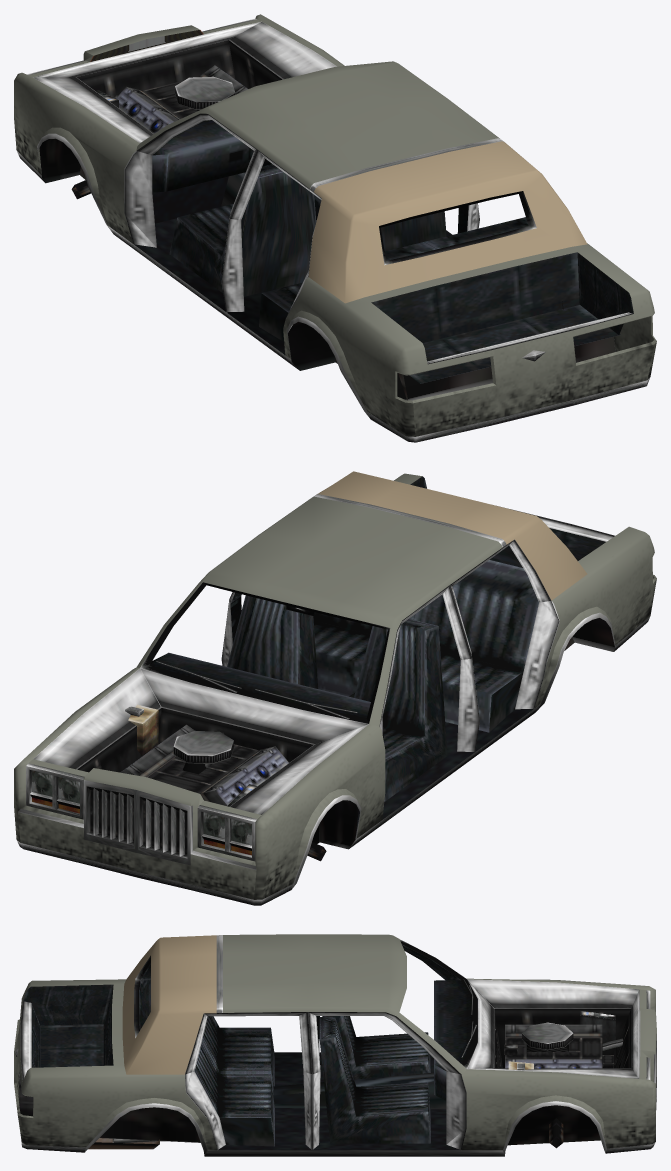
Rendered from body.fbx.
3 views of the same model, one above another, from view 1: azimuth 30°, elevation 25°; view 2: azimuth 150°, elevation 25°; view 3: azimuth 270°, elevation 25° (orthographic). The views are drawn at different scales.
Parts seen in each view (by area): view 1: node_90c7a0f5_a313_4094_9b3b_c1682f0b964c_mesh0, node_9f0f0fe9_931d_4b38_bb36_669338332844_mesh0, node_b83eb920_51e9_421c_a340_d48be0ebd1ec_mesh0, node_42ed0ef5_8616_40d4_b877_4fc42e841a97_mesh0, node_1c39ecae_c701_43d2_84b0_774bd370c041_mesh0, node_185742fc_fee7_42af_a993_4c093a22b17c_mesh0; view 2: node_90c7a0f5_a313_4094_9b3b_c1682f0b964c_mesh0, node_9f0f0fe9_931d_4b38_bb36_669338332844_mesh0, node_1c39ecae_c701_43d2_84b0_774bd370c041_mesh0, node_185742fc_fee7_42af_a993_4c093a22b17c_mesh0, node_42ed0ef5_8616_40d4_b877_4fc42e841a97_mesh0, node_b83eb920_51e9_421c_a340_d48be0ebd1ec_mesh0, node_193fff7d_00b3_49df_b433_1c3d40fa3c04_mesh0.001; view 3: node_90c7a0f5_a313_4094_9b3b_c1682f0b964c_mesh0, node_9f0f0fe9_931d_4b38_bb36_669338332844_mesh0, node_42ed0ef5_8616_40d4_b877_4fc42e841a97_mesh0, node_1c39ecae_c701_43d2_84b0_774bd370c041_mesh0, node_b83eb920_51e9_421c_a340_d48be0ebd1ec_mesh0, node_185742fc_fee7_42af_a993_4c093a22b17c_mesh0.
Part boxes in pixels (<box>): node_90c7a0f5_a313_4094_9b3b_c1682f0b964c_mesh0: <box>14,14,656,436</box>; node_9f0f0fe9_931d_4b38_bb36_669338332844_mesh0: <box>152,120,633,383</box>; node_b83eb920_51e9_421c_a340_d48be0ebd1ec_mesh0: <box>308,141,587,303</box>; node_42ed0ef5_8616_40d4_b877_4fc42e841a97_mesh0: <box>33,21,614,400</box>; node_1c39ecae_c701_43d2_84b0_774bd370c041_mesh0: <box>33,22,633,364</box>; node_185742fc_fee7_42af_a993_4c093a22b17c_mesh0: <box>17,18,649,442</box>; node_90c7a0f5_a313_4094_9b3b_c1682f0b964c_mesh0: <box>14,473,656,899</box>; node_9f0f0fe9_931d_4b38_bb36_669338332844_mesh0: <box>149,476,605,801</box>; node_1c39ecae_c701_43d2_84b0_774bd370c041_mesh0: <box>33,505,614,814</box>; node_185742fc_fee7_42af_a993_4c093a22b17c_mesh0: <box>17,494,650,905</box>; node_42ed0ef5_8616_40d4_b877_4fc42e841a97_mesh0: <box>77,582,614,861</box>; node_b83eb920_51e9_421c_a340_d48be0ebd1ec_mesh0: <box>316,471,587,600</box>; node_193fff7d_00b3_49df_b433_1c3d40fa3c04_mesh0.001: <box>32,770,251,845</box>; node_90c7a0f5_a313_4094_9b3b_c1682f0b964c_mesh0: <box>14,934,656,1150</box>; node_9f0f0fe9_931d_4b38_bb36_669338332844_mesh0: <box>23,944,472,1146</box>; node_42ed0ef5_8616_40d4_b877_4fc42e841a97_mesh0: <box>19,939,640,1150</box>; node_1c39ecae_c701_43d2_84b0_774bd370c041_mesh0: <box>20,979,639,1149</box>; node_b83eb920_51e9_421c_a340_d48be0ebd1ec_mesh0: <box>122,935,216,1074</box>; node_185742fc_fee7_42af_a993_4c093a22b17c_mesh0: <box>15,935,656,1156</box>.
Size of the model in its own units: 214 by 144 by 546.
